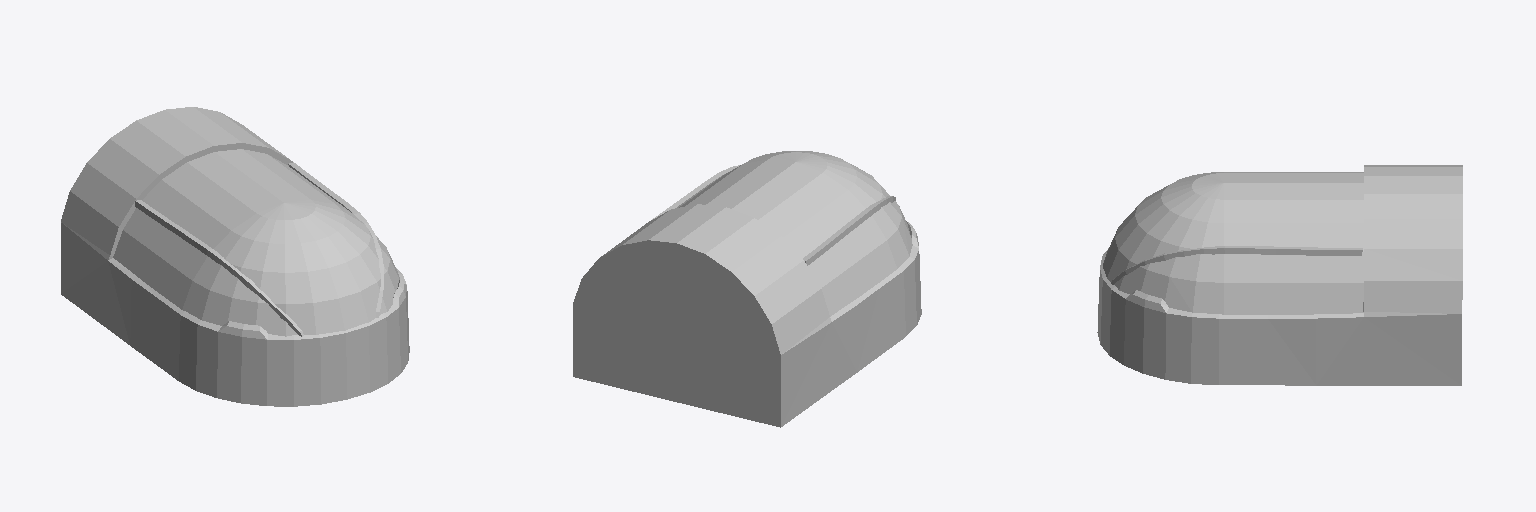
Rendered from cockpit-05_obj.obj.
The picture shows the model from 3 angles: view 1: azimuth 30°, elevation 25°; view 2: azimuth 150°, elevation 25°; view 3: azimuth 270°, elevation 25°; orthographic projection.
Parts seen in each view (by area): view 1: Group3, Group2; view 2: Group3, Group2; view 3: Group3, Group2.
Boxes of the visible parts, <box> form: Group3: <box>61,107,409,406</box>; Group2: <box>113,149,399,336</box>; Group3: <box>573,165,921,427</box>; Group2: <box>679,151,912,316</box>; Group3: <box>1097,165,1462,385</box>; Group2: <box>1103,172,1363,314</box>.
Bounding box in the file's own units: 4.43 × 3.13 × 6.5.